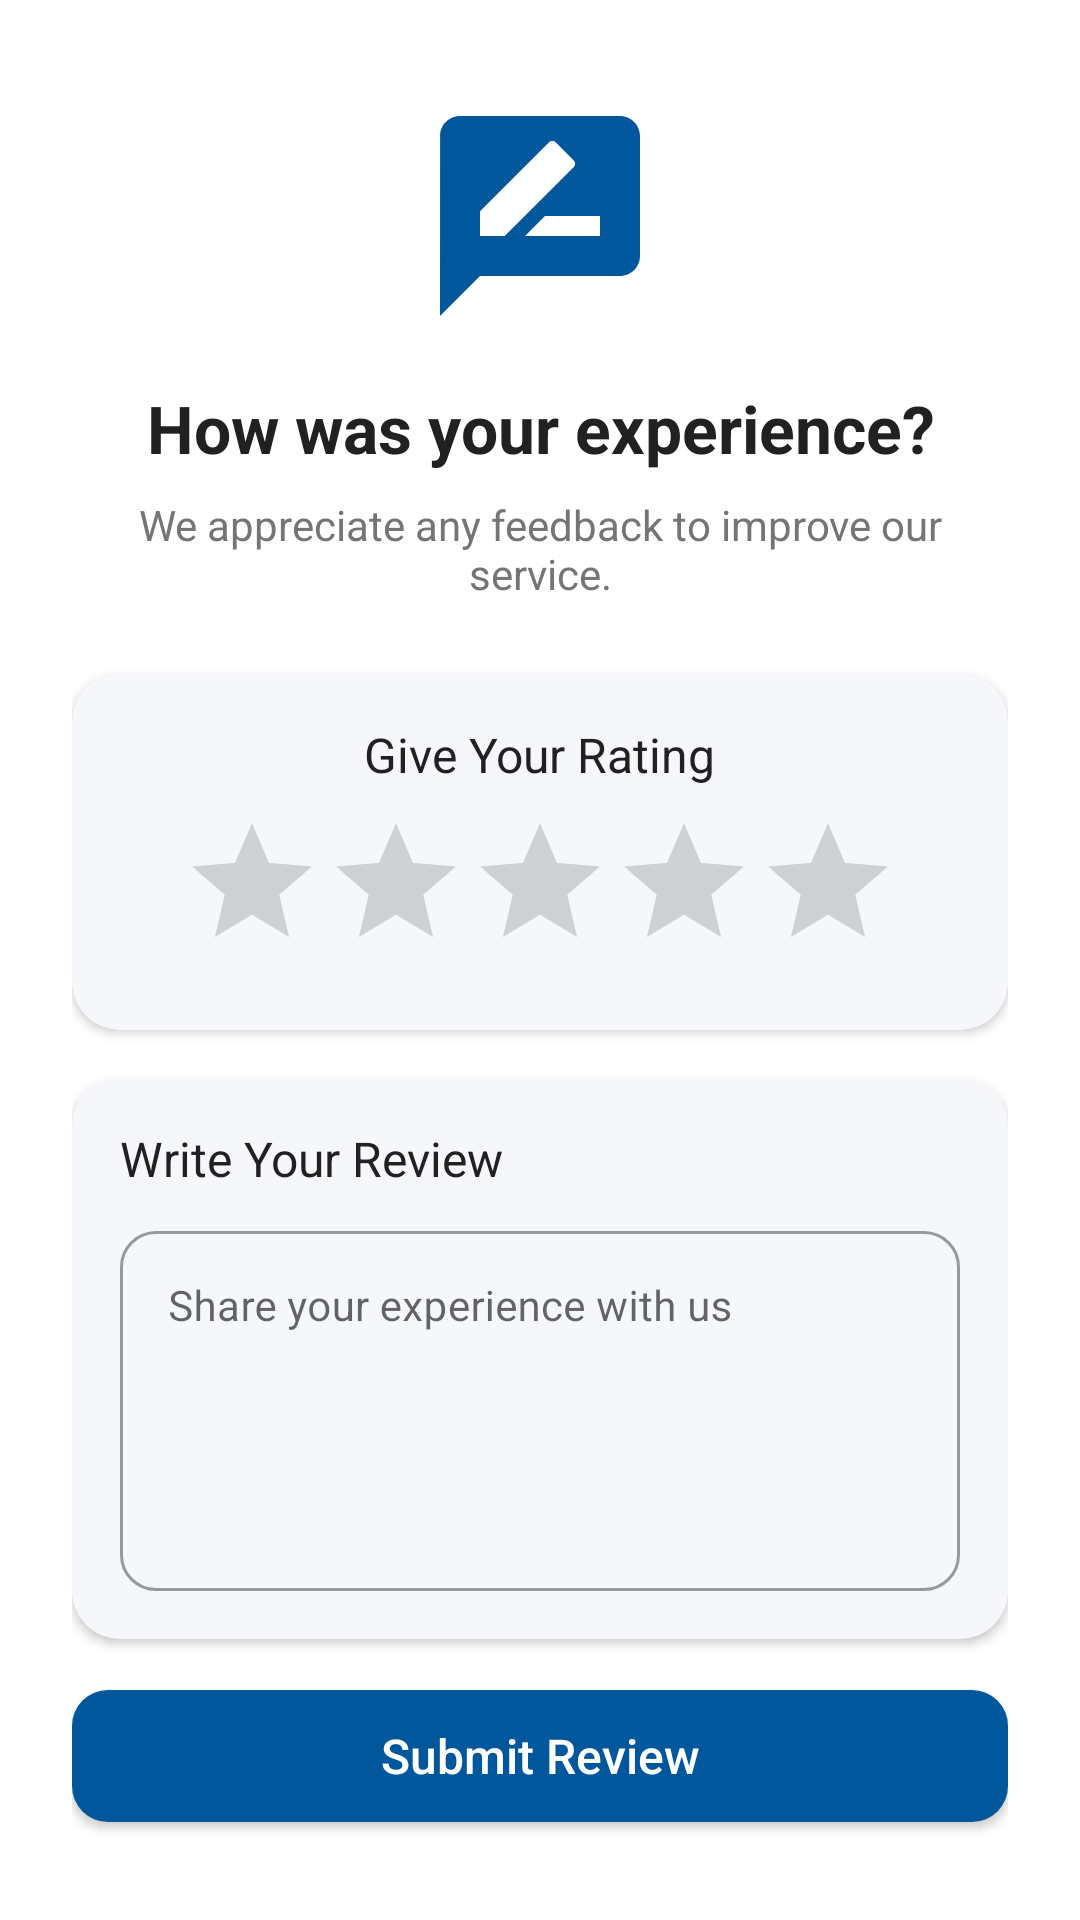

Icons on this 1080px×1920px Android screen, each with the point to tap as point (x, y):
feedback: point (540, 216)
